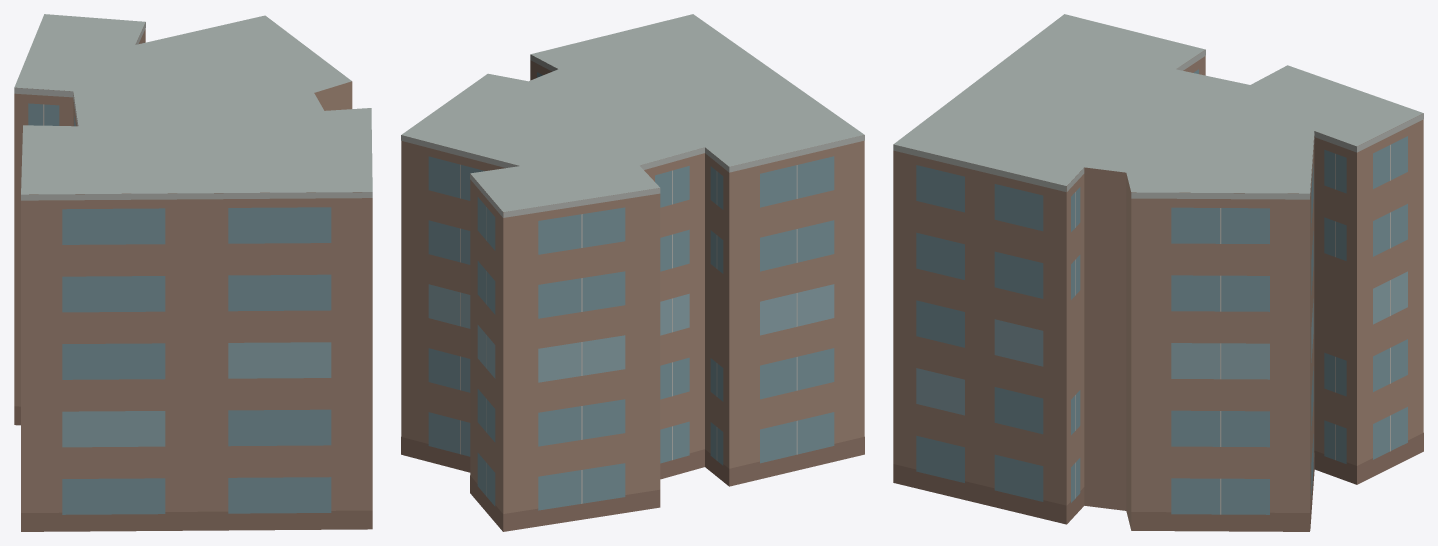
File: survey-upis-32930839.glb
3 views of the same model, side by side, from view 1: azimuth 30°, elevation 25°; view 2: azimuth 150°, elevation 25°; view 3: azimuth 270°, elevation 25° (orthographic). The views are drawn at different scales.
Parts seen in each view (by area): view 1: survey-upis-32930839.tmp; view 2: survey-upis-32930839.tmp; view 3: survey-upis-32930839.tmp.
Boxes of the visible parts, box(x1,y1,x2,y2) form: survey-upis-32930839.tmp: box(14, 14, 372, 531); survey-upis-32930839.tmp: box(401, 14, 864, 531); survey-upis-32930839.tmp: box(893, 14, 1423, 531).
Bounding box in the file's own units: 15.37 × 13.5 × 19.19.
